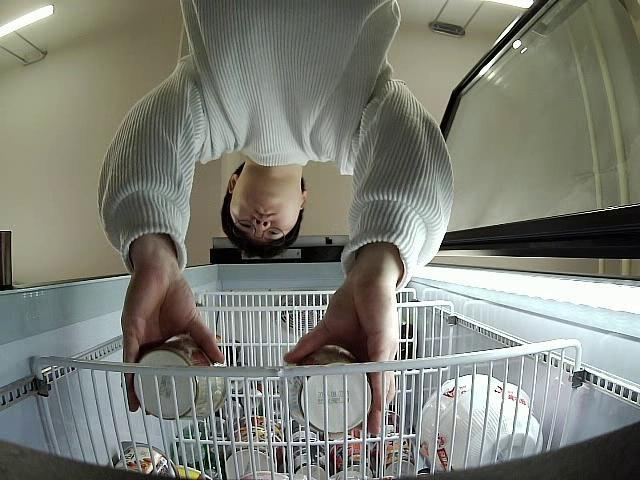04_chapagetti_S: (277, 346, 375, 434), (133, 339, 230, 423)
